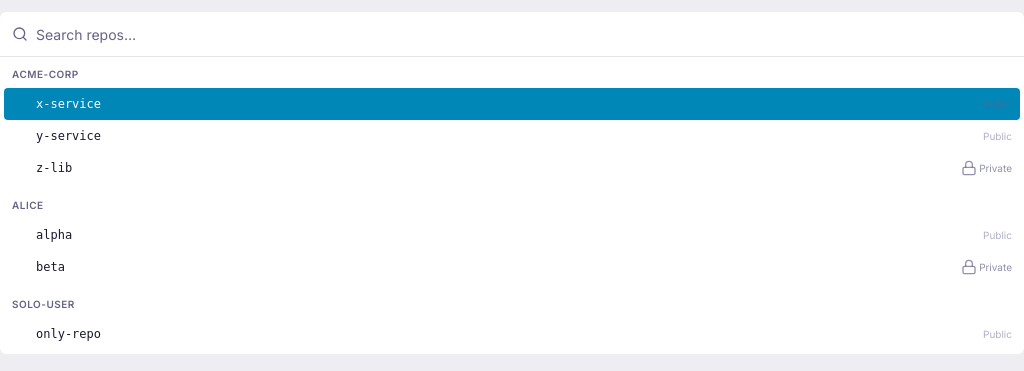
Test case: filtering via CommandInput search › shows 'No repos found.' when search matches nothing
Type "zzz-no-match-xyz" into the dropdown with placeholder "Search repos…".
click(524, 34); type("zzz-no-match-xyz")  # box [36, 12, 1012, 56]
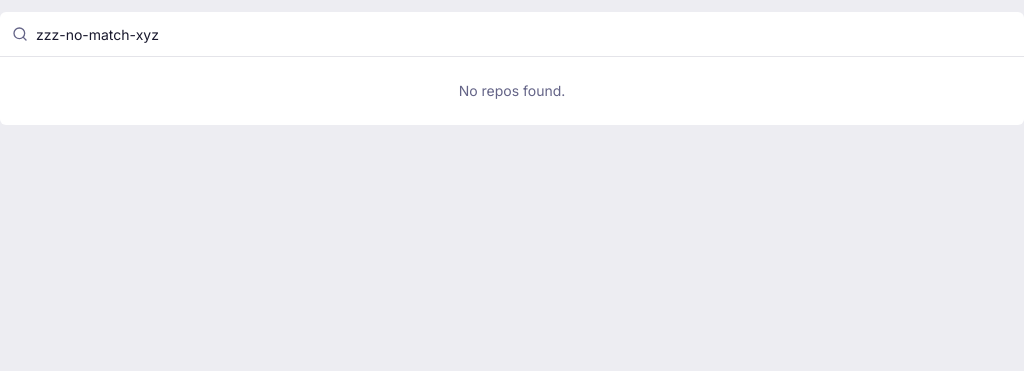
Now the text "No repos found." is shown, box [459, 82, 565, 99]
